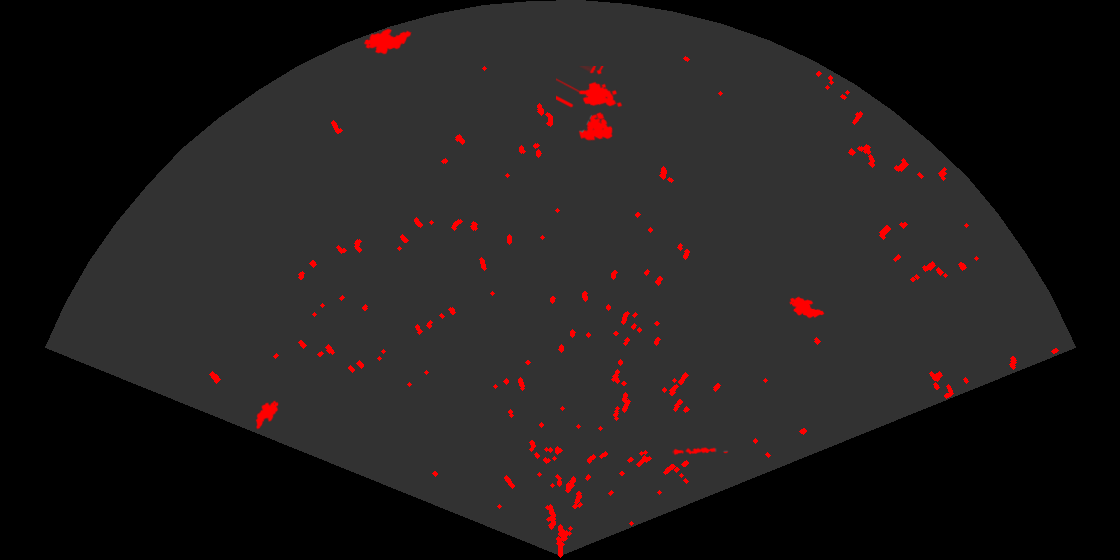AUV: (362, 27, 413, 56), (788, 295, 826, 320), (254, 399, 280, 431)
cage: (556, 66, 624, 143)
chain: (672, 446, 729, 457)
